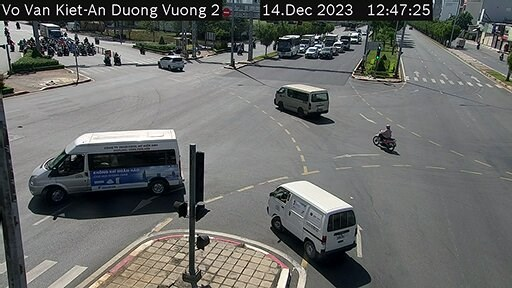car: (34, 130, 184, 204), (266, 176, 350, 251), (271, 82, 330, 121), (276, 34, 299, 63), (156, 53, 180, 76), (304, 42, 318, 61), (319, 45, 332, 61)
motorbike: (372, 121, 402, 154), (102, 50, 113, 69), (112, 53, 123, 67)
